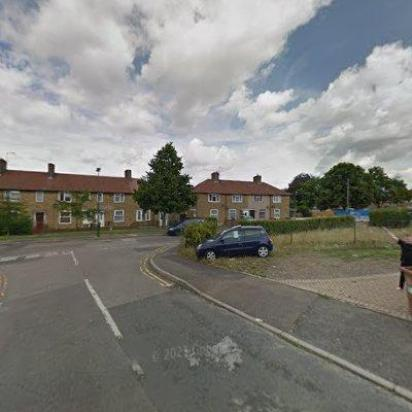stationary-car-offstreet: (193, 223, 274, 264)
stationary-car-onstreet: (166, 217, 209, 236)
